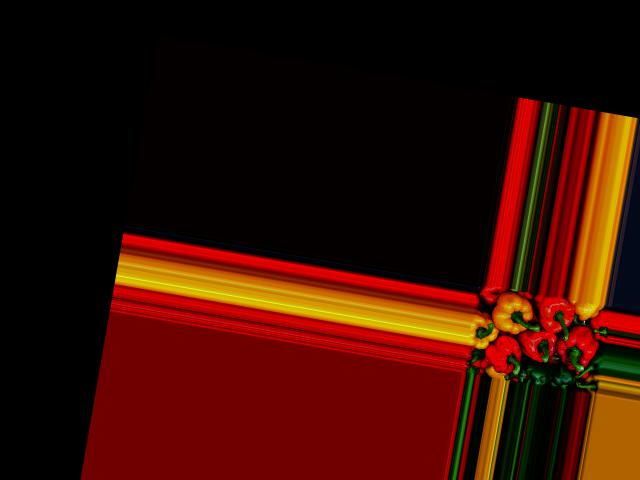bell_pepper: (573, 299, 600, 321)
